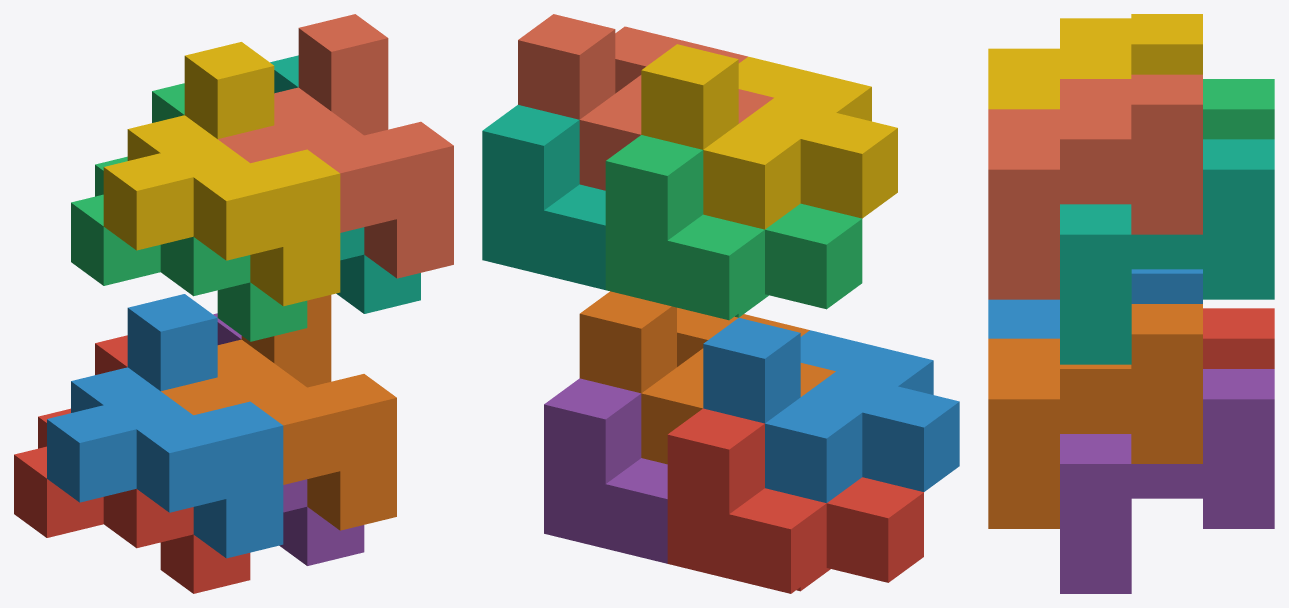
The model's file is tiling.obj.
The picture shows the model from 3 angles, left to right: view 1: azimuth 30°, elevation 25°; view 2: azimuth 150°, elevation 25°; view 3: azimuth 270°, elevation 25°; orthographic projection. The views are drawn at different scales.
Visible parts, largest first — view 1: copy_1_domain_4, copy_1_domain_2, copy_1_domain_8, copy_1_domain_6, copy_1_domain_3, copy_1_domain_1, copy_1_domain_7, copy_1_domain_5; view 2: copy_1_domain_2, copy_1_domain_4, copy_1_domain_3, copy_1_domain_1, copy_1_domain_5, copy_1_domain_7, copy_1_domain_8, copy_1_domain_6; view 3: copy_1_domain_8, copy_1_domain_6, copy_1_domain_7, copy_1_domain_5, copy_1_domain_4, copy_1_domain_2, copy_1_domain_1, copy_1_domain_3.
Part boxes in pixels (box(x1,y1,x2,y2)): copy_1_domain_4: box(103, 42, 340, 306); copy_1_domain_2: box(47, 294, 283, 558); copy_1_domain_8: box(218, 14, 453, 278); copy_1_domain_6: box(161, 295, 396, 530); copy_1_domain_3: box(71, 83, 307, 341); copy_1_domain_1: box(14, 335, 250, 593); copy_1_domain_7: box(270, 55, 420, 313); copy_1_domain_5: box(213, 313, 364, 565); copy_1_domain_2: box(703, 318, 959, 502); copy_1_domain_4: box(641, 44, 897, 229); copy_1_domain_3: box(605, 135, 862, 320); copy_1_domain_1: box(667, 408, 923, 593); copy_1_domain_5: box(544, 378, 667, 563); copy_1_domain_7: box(482, 105, 605, 289); copy_1_domain_8: box(518, 14, 773, 190); copy_1_domain_6: box(579, 291, 835, 464); copy_1_domain_8: box(988, 74, 1202, 299); copy_1_domain_6: box(988, 304, 1202, 528); copy_1_domain_7: box(1060, 139, 1274, 364); copy_1_domain_5: box(1060, 369, 1274, 593); copy_1_domain_4: box(988, 14, 1202, 109); copy_1_domain_2: box(988, 269, 1202, 338); copy_1_domain_1: box(1203, 308, 1274, 368); copy_1_domain_3: box(1203, 79, 1274, 139).
Bounding box in the file's own units: 6 × 8 × 4.
